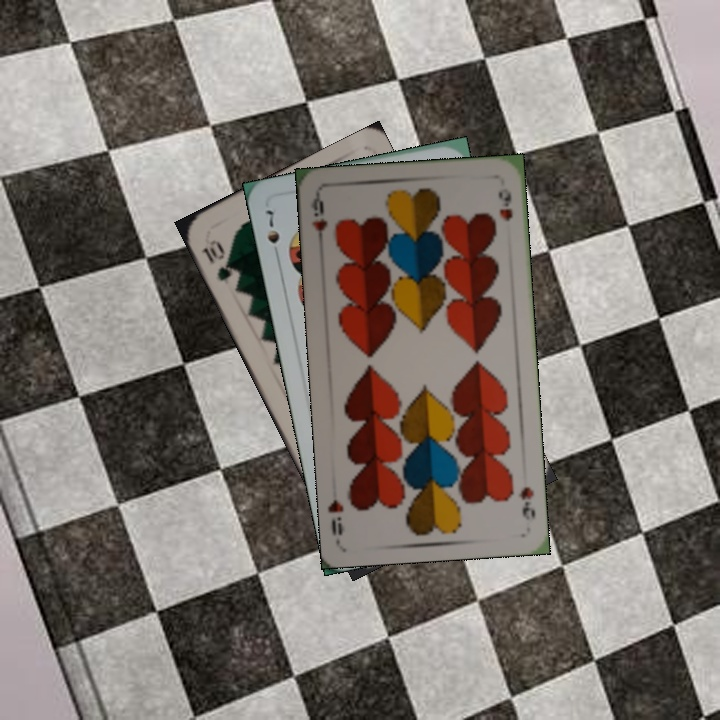G10: (197, 235, 237, 284)
H9: (307, 192, 330, 252), (515, 482, 538, 523)
S7: (263, 205, 283, 262)
